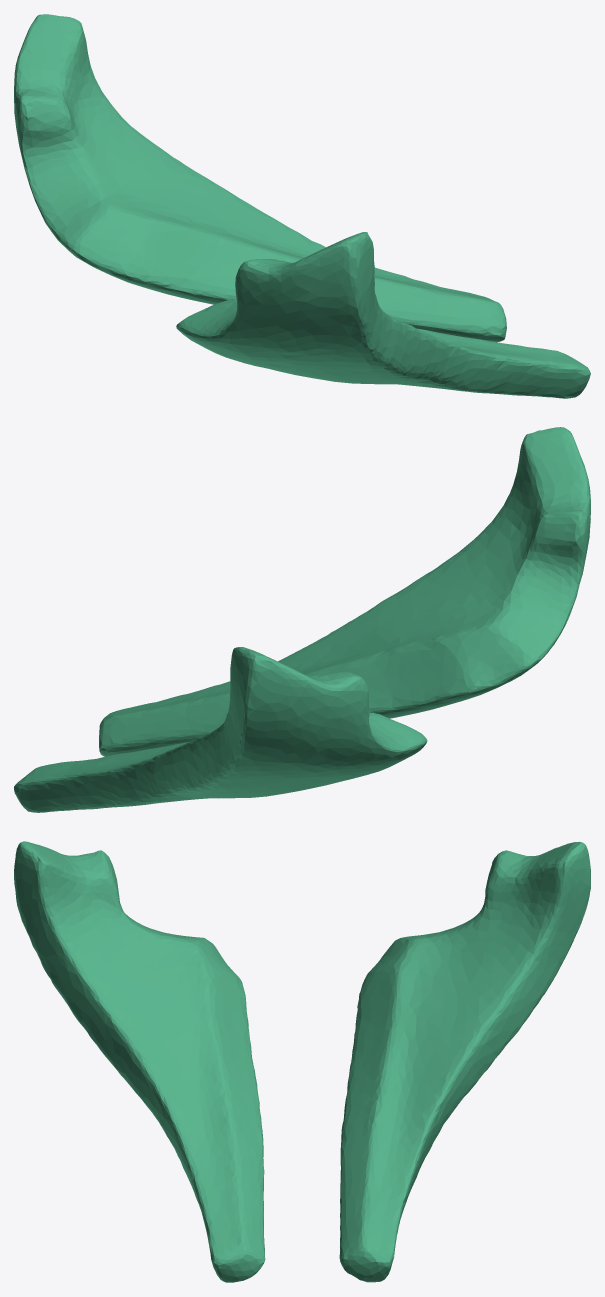
The picture shows the model from 3 angles, top to bottom: view 1: azimuth 30°, elevation 25°; view 2: azimuth 150°, elevation 25°; view 3: azimuth 270°, elevation 25°; orthographic projection. The views are drawn at different scales.
Parts seen in each view (by area): view 1: 767.obj; view 2: 767.obj; view 3: 767.obj.
Boxes of the visible parts, box(x1,y1,x2,y2) form: 767.obj: box(14, 14, 590, 398); 767.obj: box(14, 427, 590, 812); 767.obj: box(14, 841, 590, 1282).
Bounding box in the file's own units: 3972 × 2903 × 5205.
